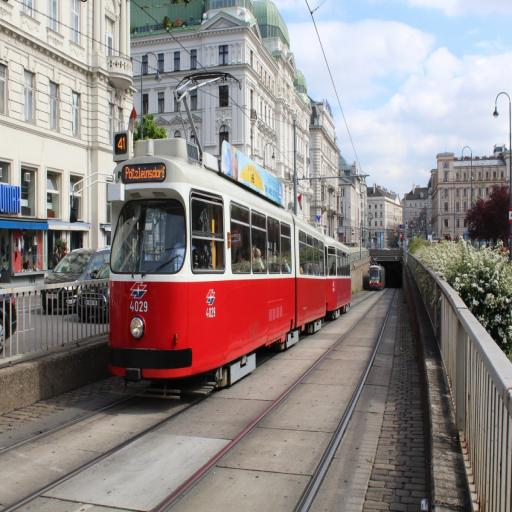E2-Tram: (106, 127, 354, 415)
